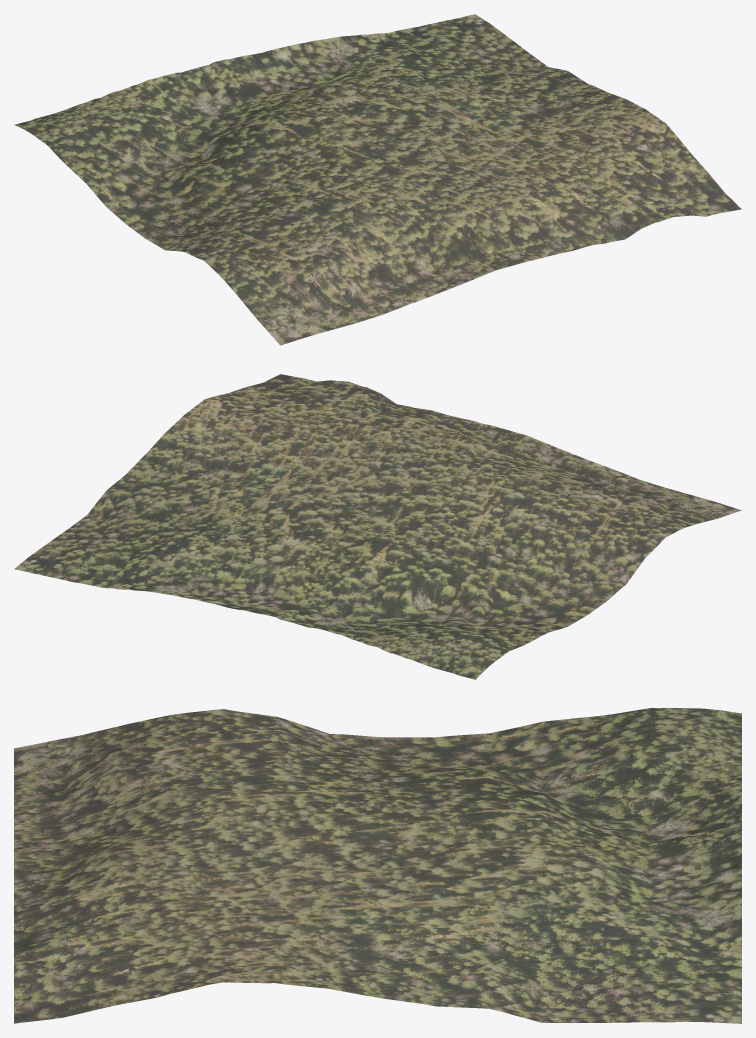
File: CM_Terrain_24493735_6814264.fbx
3 views of the same model, one above another, from view 1: azimuth 30°, elevation 25°; view 2: azimuth 150°, elevation 25°; view 3: azimuth 270°, elevation 25° (orthographic). The views are drawn at different scales.
Parts seen in each view (by area): view 1: CM_Terrain_24493735_6814264_LOD0; view 2: CM_Terrain_24493735_6814264_LOD0; view 3: CM_Terrain_24493735_6814264_LOD0.
Part boxes in pixels (x1,y1,x2,y2): CM_Terrain_24493735_6814264_LOD0: (14,14,741,345); CM_Terrain_24493735_6814264_LOD0: (14,374,741,679); CM_Terrain_24493735_6814264_LOD0: (14,708,741,1023).
Size of what is drawn, in the model's own units: 205 by 22.87 by 205.
